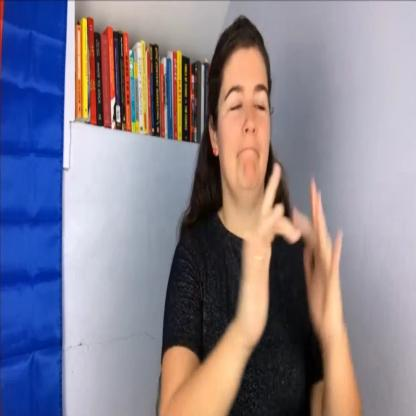Internet: (232, 152, 343, 356)
